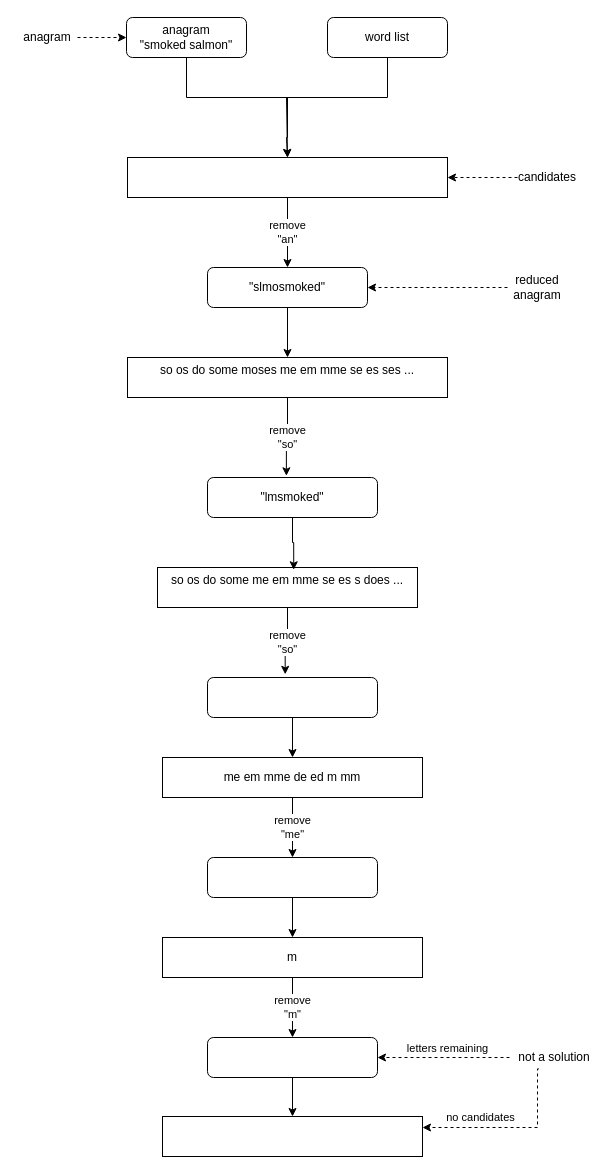
Image size: 616x1174. Some labels were removed from this diagram. The shapes that lost their labels are listed below. From the top down, each one's box as (x1, y1, x2, y2) in pixels, then its label:
(126, 156, 448, 198): an na one neo al la so os also ...
(206, 676, 378, 718): "lmmked"
(206, 856, 378, 898): "lmkd"
(206, 1036, 378, 1078): "lkd"
